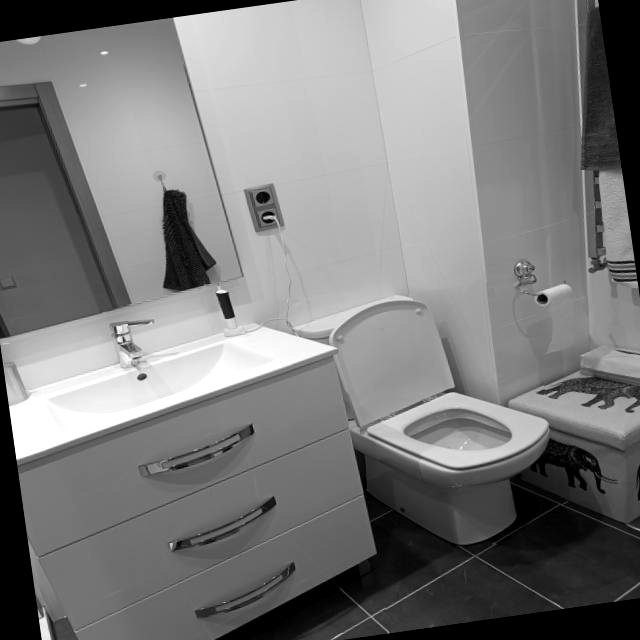cabinet: (18, 364, 378, 640)
shelf: (36, 601, 53, 640)
table: (288, 296, 551, 548)
wardrobe: (9, 320, 329, 467)
